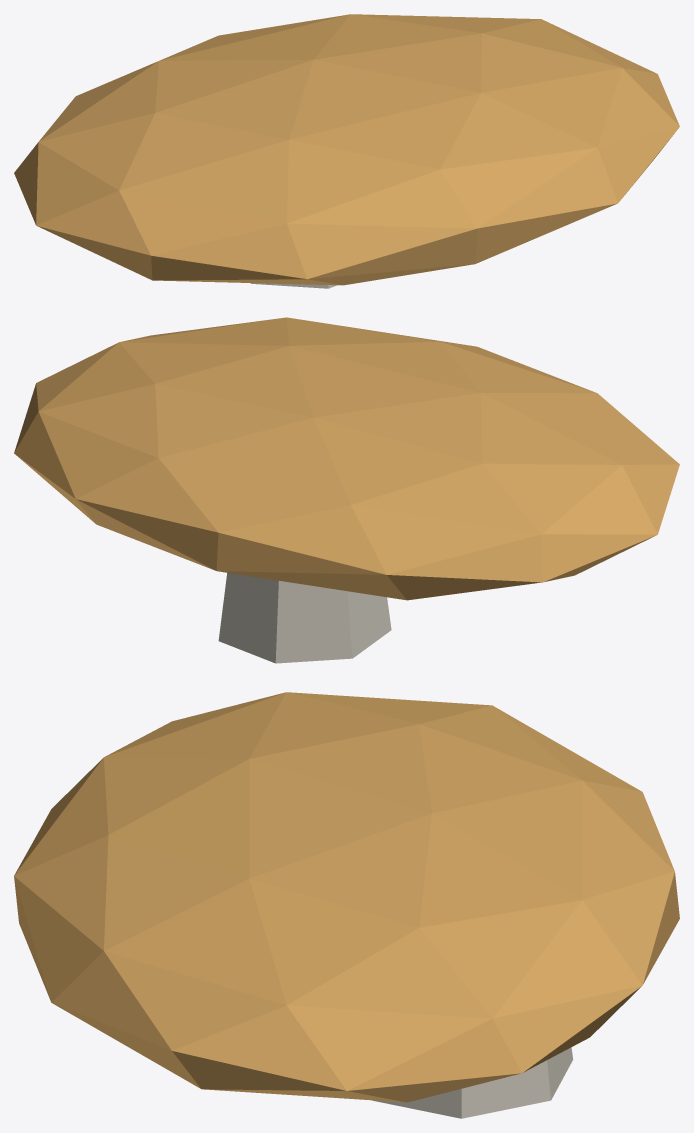
Rendered from inocutis-tamaricis.glb.
3 views of the same model, one above another, from view 1: azimuth 30°, elevation 25°; view 2: azimuth 150°, elevation 25°; view 3: azimuth 270°, elevation 25° (orthographic). The views are drawn at different scales.
Parts seen in each view (by area): view 1: shelf; view 2: shelf, stalk; view 3: shelf, stalk.
Boxes of the visible parts, <box> form: shelf: <box>14,14,679,285</box>; shelf: <box>14,317,679,600</box>; stalk: <box>218,573,391,663</box>; shelf: <box>14,692,679,1102</box>; stalk: <box>372,1047,573,1118</box>.
Bounding box in the file's own units: 0.48 × 0.1484 × 0.3488.
